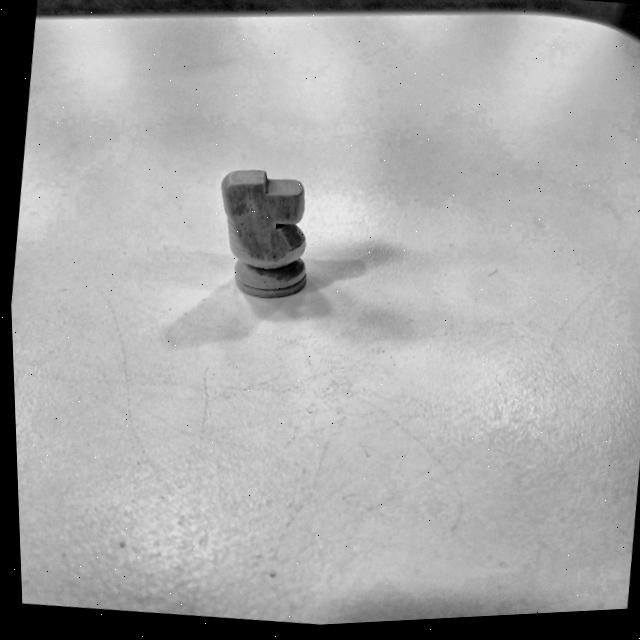white-knight: (218, 170, 307, 298)
